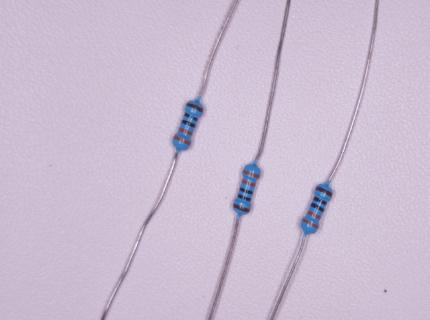Black band: (311, 203, 325, 213), (182, 120, 197, 128), (185, 113, 198, 121), (238, 193, 251, 201), (314, 197, 327, 205), (240, 187, 254, 194)
Brown band: (315, 186, 333, 197), (187, 103, 204, 112), (234, 204, 251, 213)
Orange band: (173, 135, 191, 146), (301, 218, 319, 229), (243, 170, 260, 179), (307, 210, 322, 220), (179, 127, 193, 136), (242, 179, 255, 187)
